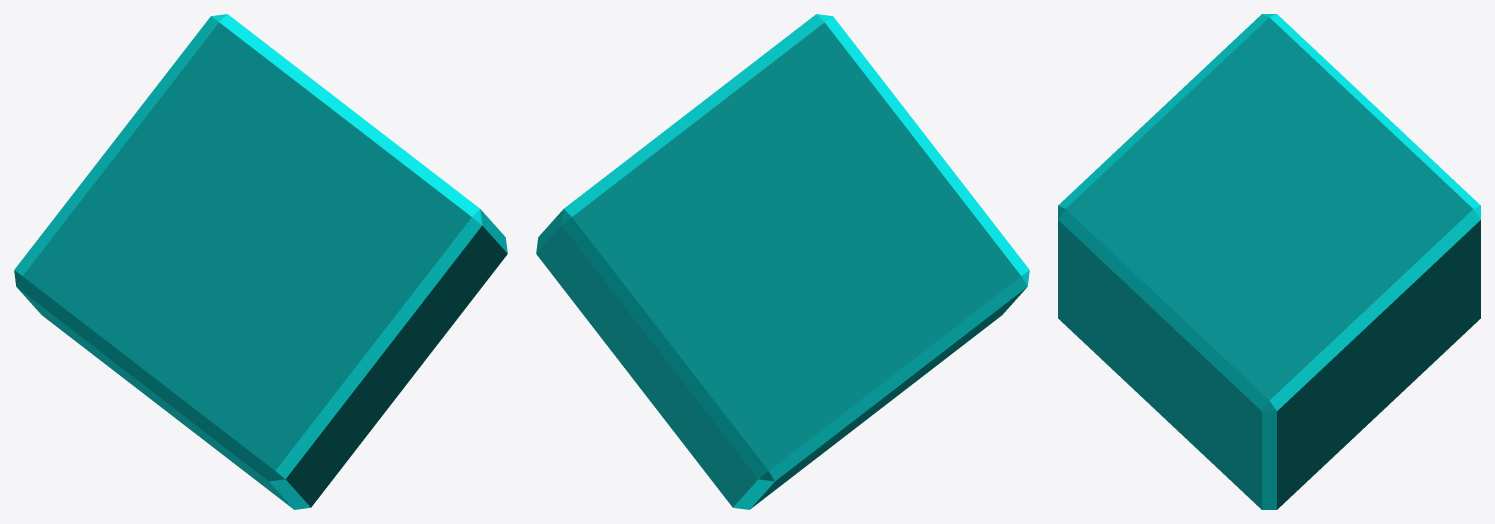
Rendered from propbox.fbx.
3 renders of one model, left to right at view 1: azimuth 30°, elevation 25°; view 2: azimuth 150°, elevation 25°; view 3: azimuth 270°, elevation 25°, orthographic. The views are drawn at different scales.
Visible parts, largest first — view 1: PropBox, Border; view 2: PropBox, Border; view 3: PropBox, Border.
Part boxes in pixels (x1,y1,x2,y2): PropBox: [17, 22, 507, 509]; Border: [14, 14, 507, 509]; PropBox: [536, 22, 1026, 509]; Border: [536, 14, 1029, 509]; PropBox: [1058, 17, 1480, 509]; Border: [1058, 14, 1480, 509].
Size of the model in its own units: 128 by 128 by 107.
